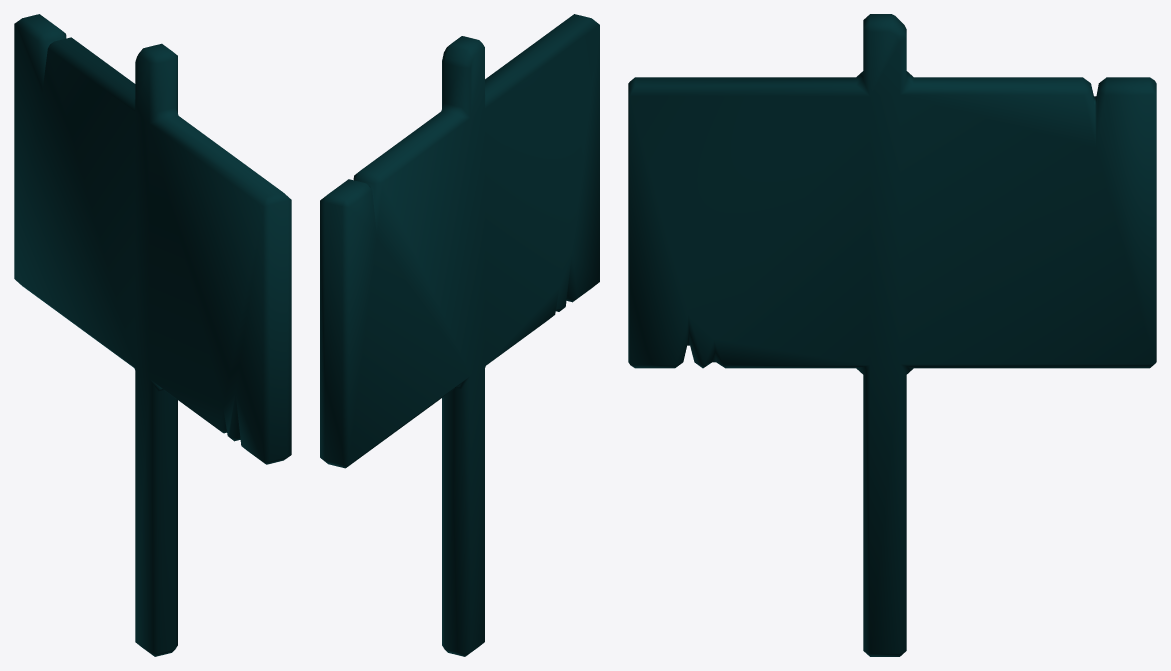
The model's file is Sign.fbx.
3 views of the same model, side by side, from view 1: azimuth 30°, elevation 25°; view 2: azimuth 150°, elevation 25°; view 3: azimuth 270°, elevation 25° (orthographic). The views are drawn at different scales.
Visible parts, largest first — view 1: Cube; view 2: Cube; view 3: Cube.
Part boxes in pixels (bbox=[...]): Cube: bbox=[14, 14, 291, 656]; Cube: bbox=[320, 14, 599, 656]; Cube: bbox=[628, 14, 1156, 656].
Size of the model in its own units: 0.0472 by 0.7166 by 0.9489.
